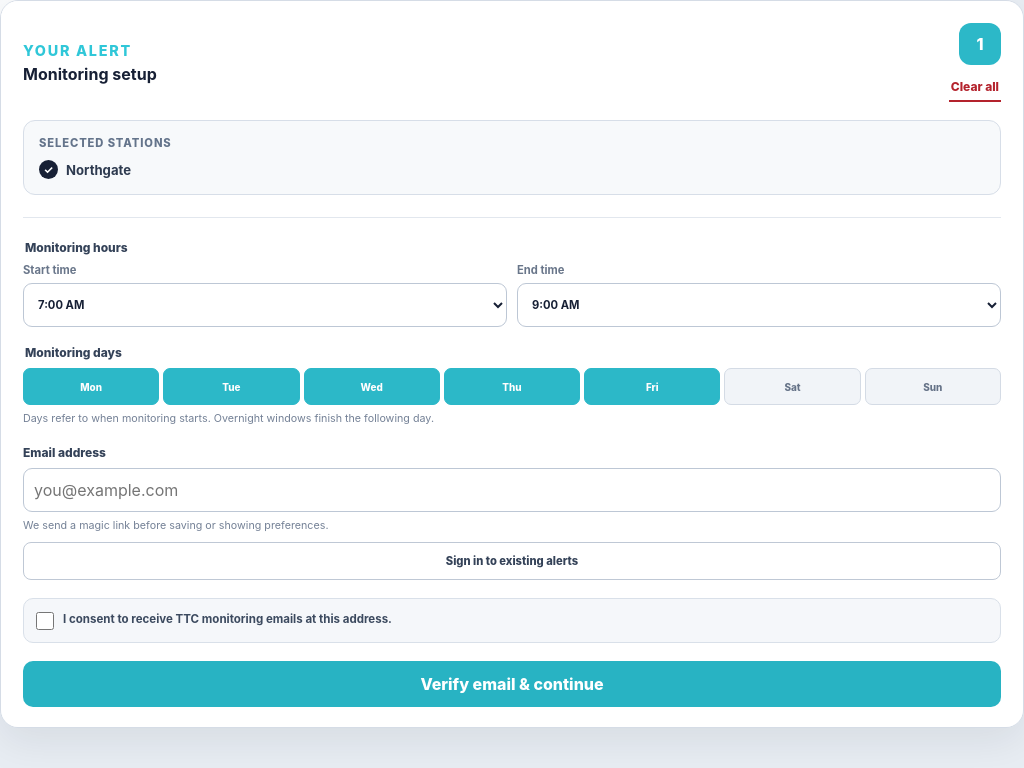
secure monitoring preferences › shows an actionable error when Supabase rate-limits sign-in email
The width and height of the screenshot is (1024, 768).
In the field labelled "Email address": (512, 490) [23,468,1001,512], type "rider@example.com"
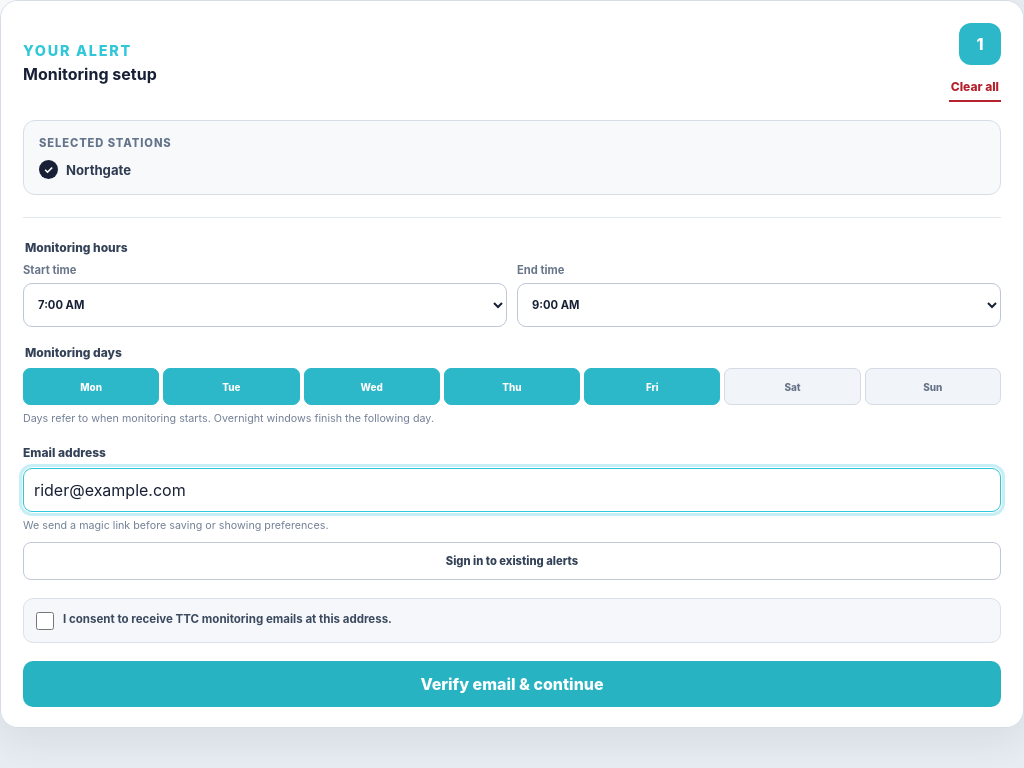
Click the button "Sign in to existing alerts": (512, 561) [23,542,1001,580]
(page scrolled)
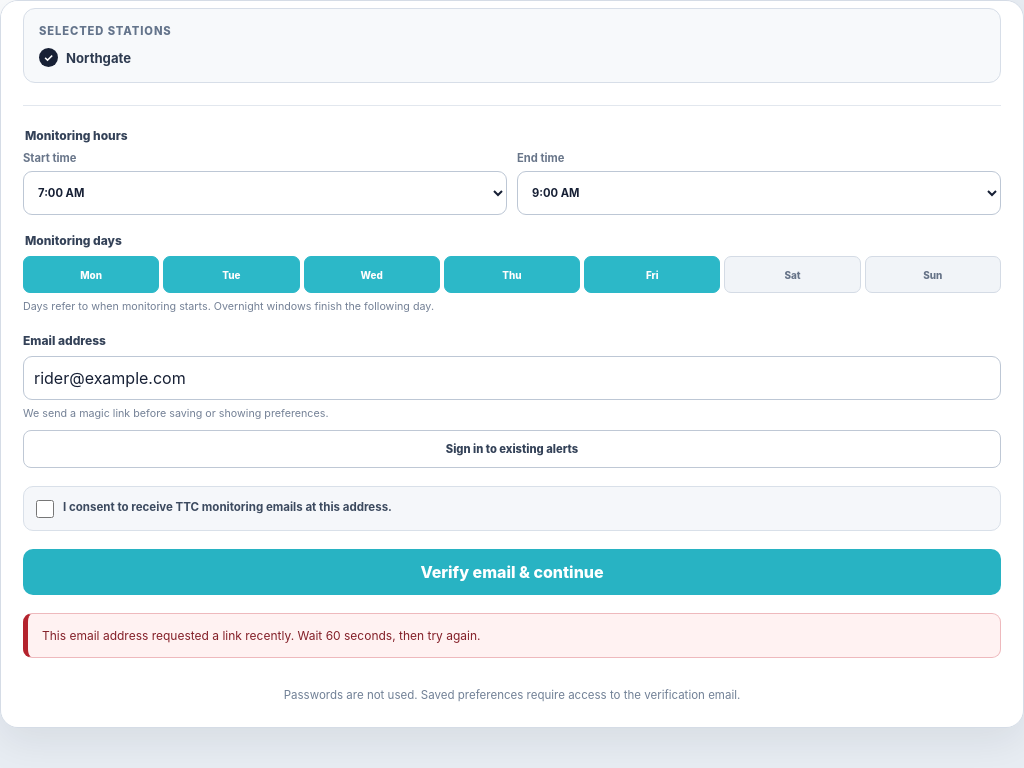
expect the message shows "Wait 60 seconds": met, box [42,628,480,643]
